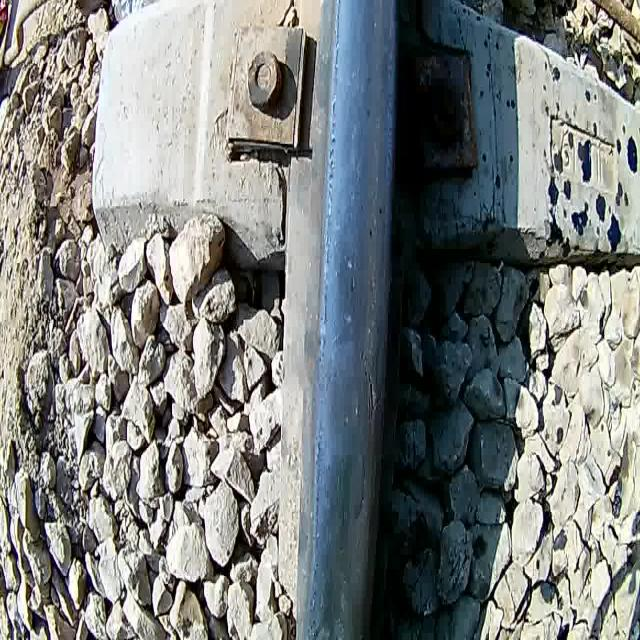Cracks: (348, 350, 390, 440)
Squats: (301, 446, 371, 640), (297, 218, 396, 352)
